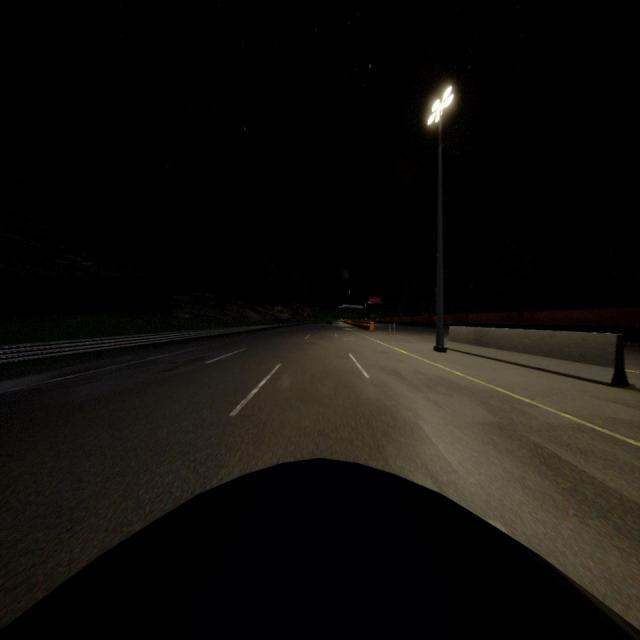Vehicle: (0, 458, 640, 638), (326, 320, 332, 326)
